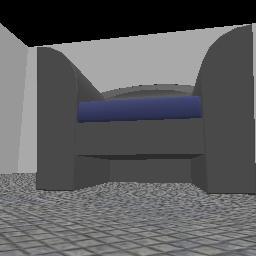fotoliu: (37, 25, 255, 193)
